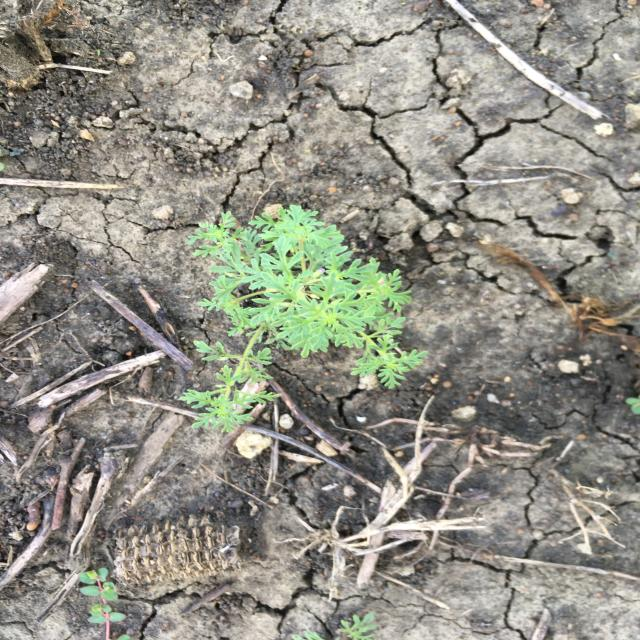Ragweed: (176, 203, 432, 436), (284, 613, 383, 639)
SpottedSpurge: (73, 570, 135, 639)
